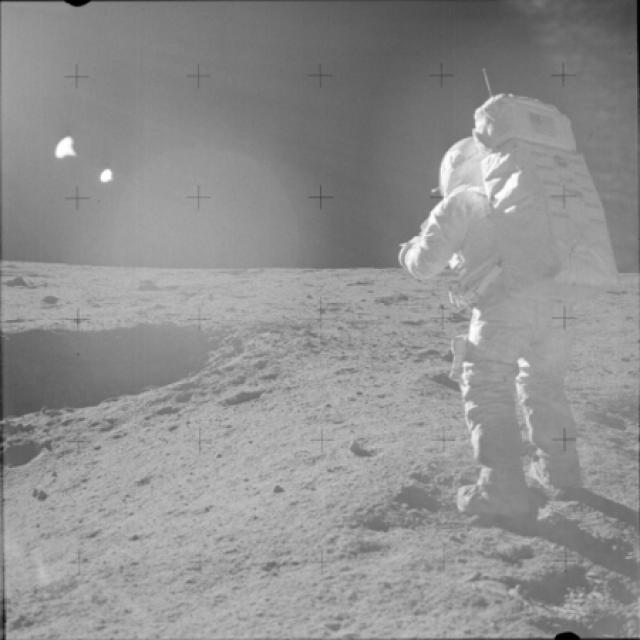crater: (0, 304, 245, 433), (0, 432, 67, 477)
rock: (422, 362, 455, 391)
